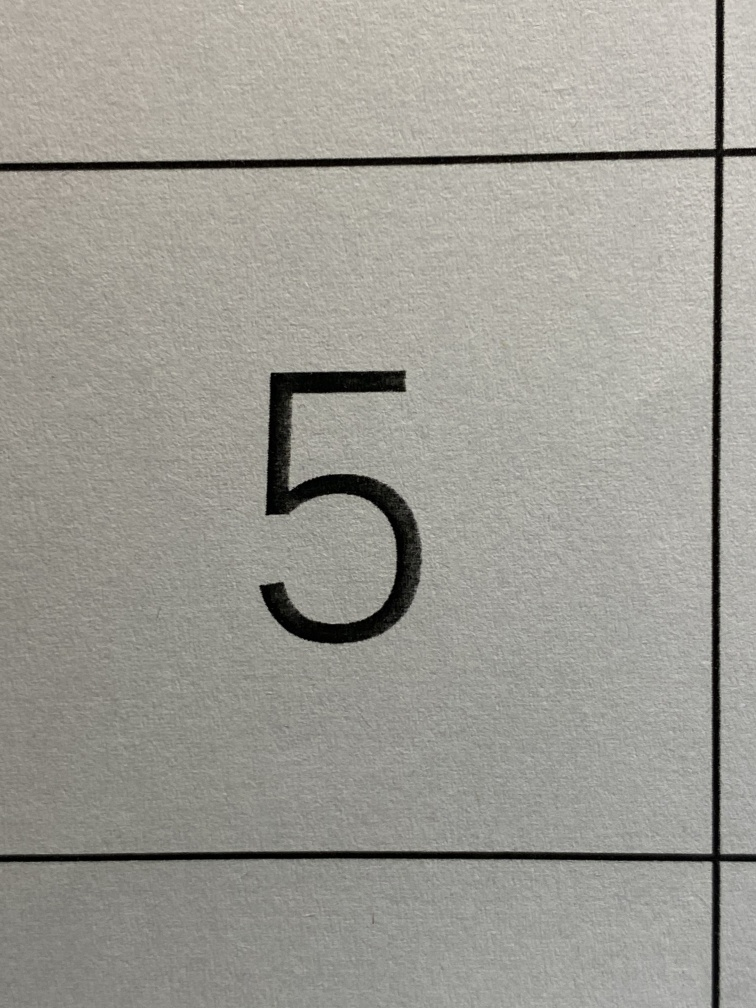five: (200, 317, 493, 701)
